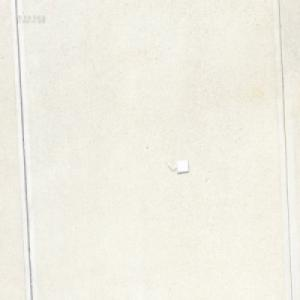LuggageTag: (163, 156, 189, 173)
